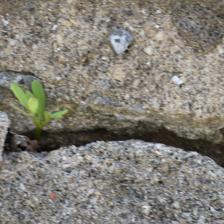Crack: (3, 58, 218, 119)
